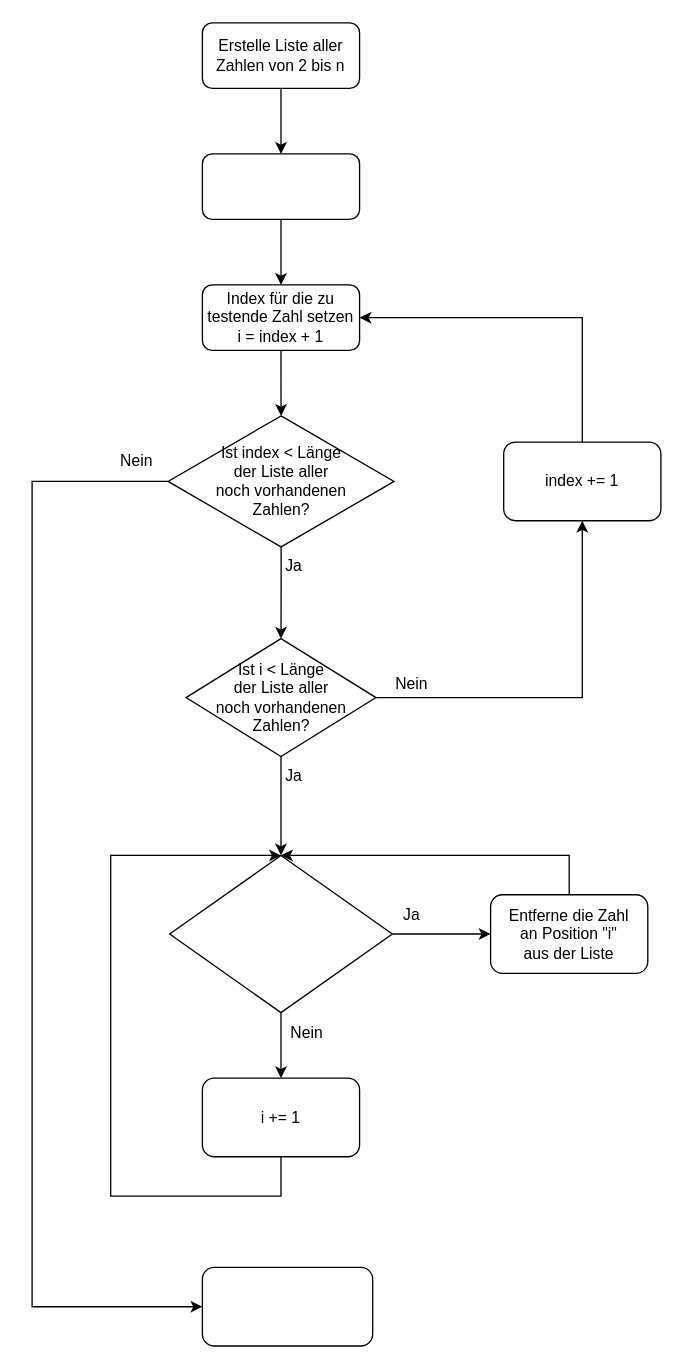
Some shapes in this 684 by 1369 pixel diagram are drawn without their labels. Each missing label, with the centre of its shape:
Index für den Teiler setzen index = 0: point (280, 186)
Ist die Zahl an "i" glatt durch die Zahl an "index teilbar?: point (280, 933)
Liste der verbleibenden Zahlen zurückgeben: point (287, 1306)
